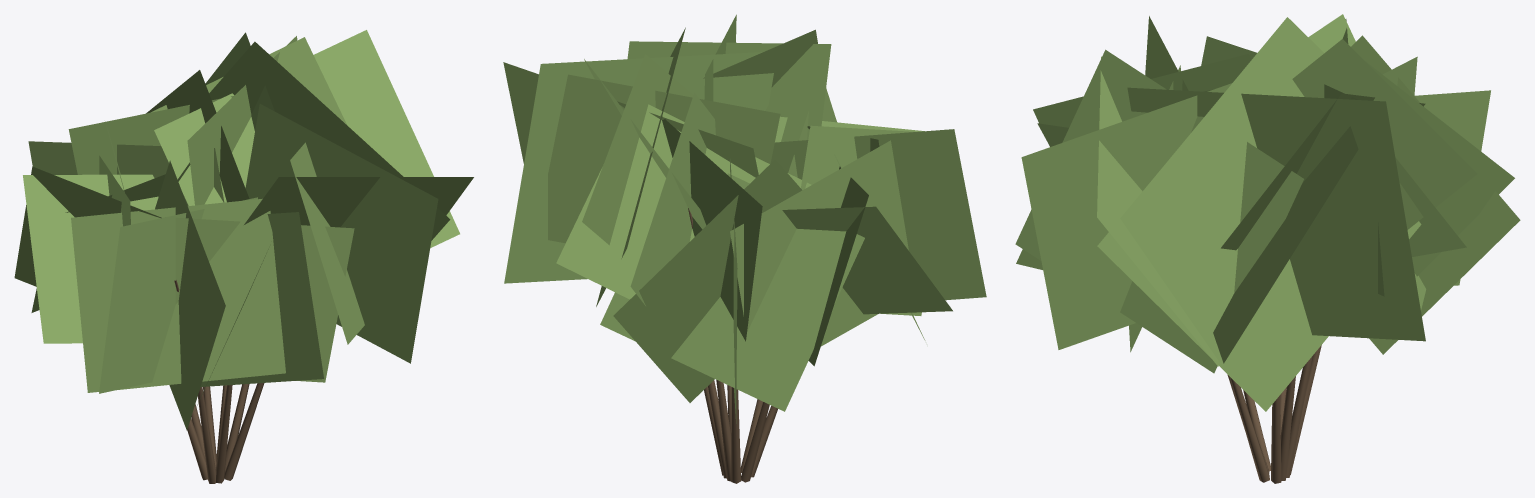
Rendered from hazel.glb.
The picture shows the model from 3 angles, left to right: view 1: azimuth 30°, elevation 25°; view 2: azimuth 150°, elevation 25°; view 3: azimuth 270°, elevation 25°; orthographic projection. The views are drawn at different scales.
Visible parts, largest first — view 1: Foliage, hazel; view 2: Foliage, hazel; view 3: Foliage, hazel.
Boxes of the visible parts, box(x1,y1,x2,y2) form: Foliage: box(14, 30, 473, 430); hazel: box(174, 280, 264, 483); Foliage: box(503, 14, 986, 423); hazel: box(688, 208, 777, 483); Foliage: box(1015, 14, 1520, 411); hazel: box(1227, 345, 1321, 483).
Size of the model in its own units: 2.98 by 2.93 by 2.77.
